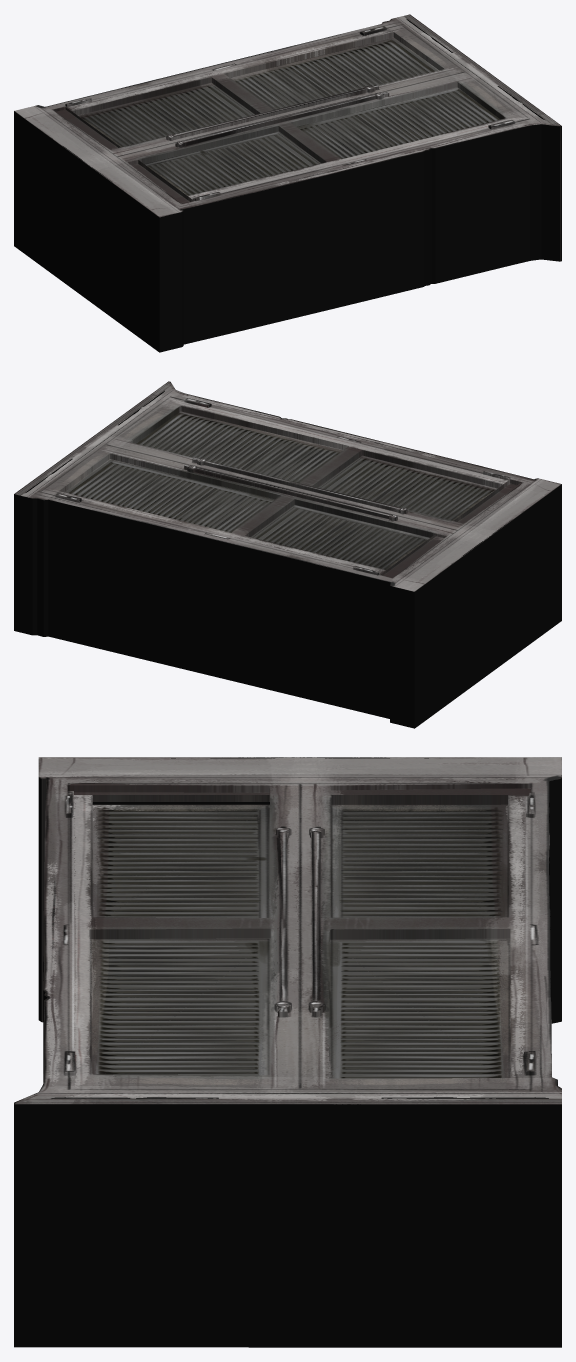
Rendered from 臥室_百葉櫃.fbx.
The picture shows the model from 3 angles, top to bottom: view 1: azimuth 30°, elevation 25°; view 2: azimuth 150°, elevation 25°; view 3: azimuth 270°, elevation 25°; orthographic projection. The views are drawn at different scales.
Visible parts, largest first — view 1: 臥室_百葉櫃; view 2: 臥室_百葉櫃; view 3: 臥室_百葉櫃.
Part boxes in pixels (left/top/right/bottom): 臥室_百葉櫃: left=14, top=14, right=561, bottom=352; 臥室_百葉櫃: left=14, top=381, right=561, bottom=728; 臥室_百葉櫃: left=14, top=757, right=561, bottom=1347.
Size of the model in its own units: 2963 by 988 by 1975.
2 materials, 1 textured.
